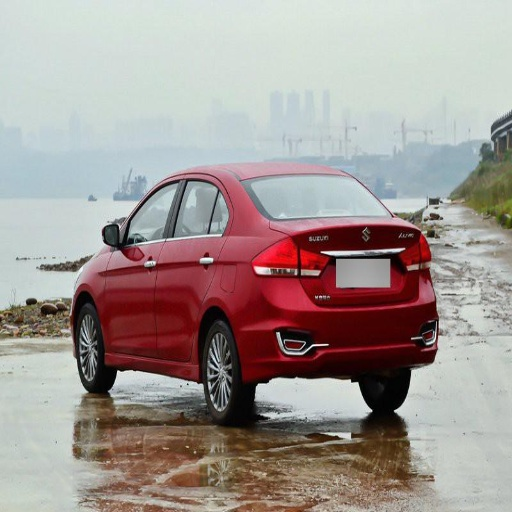back_bumper: (240, 277, 437, 378)
back_glass: (245, 175, 382, 219)
back_left_door: (157, 176, 228, 362)
tailgate: (303, 216, 413, 277)
trunk: (300, 230, 419, 312)
